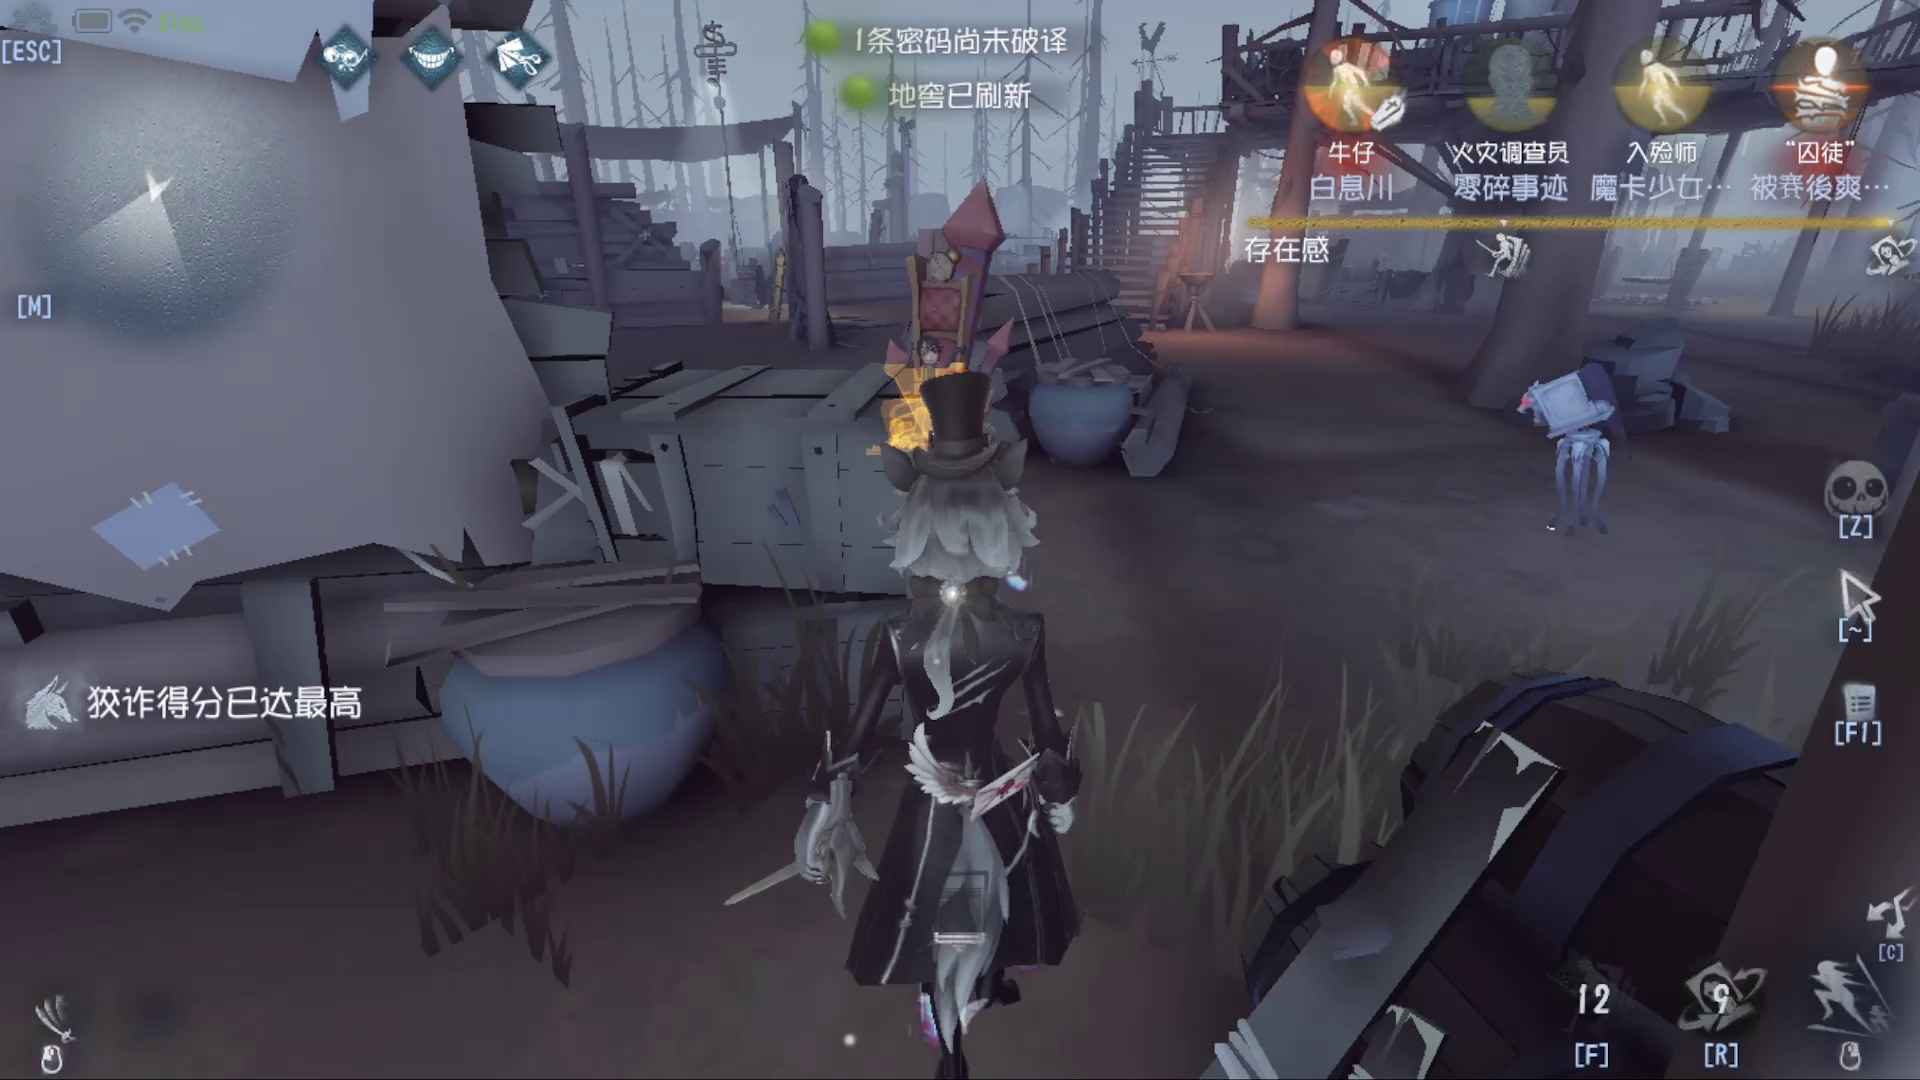木板: (764, 236, 796, 331)
狂欢之椅: (862, 196, 1000, 471)
